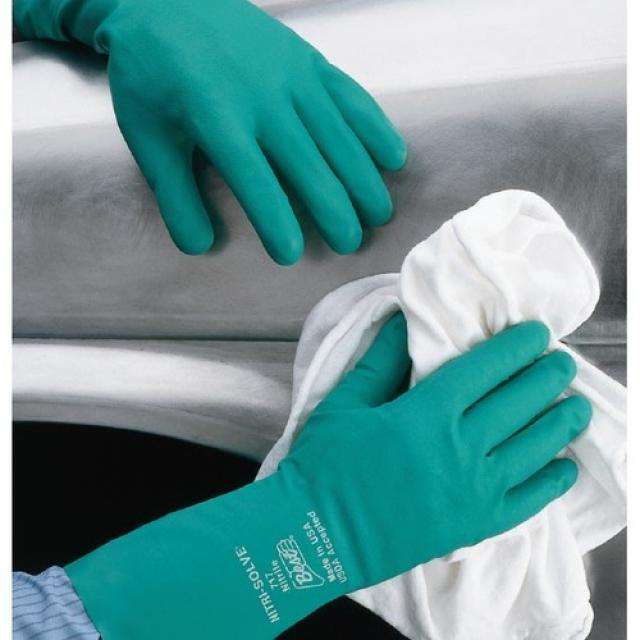gloves: (61, 308, 598, 640), (12, 0, 407, 265)
